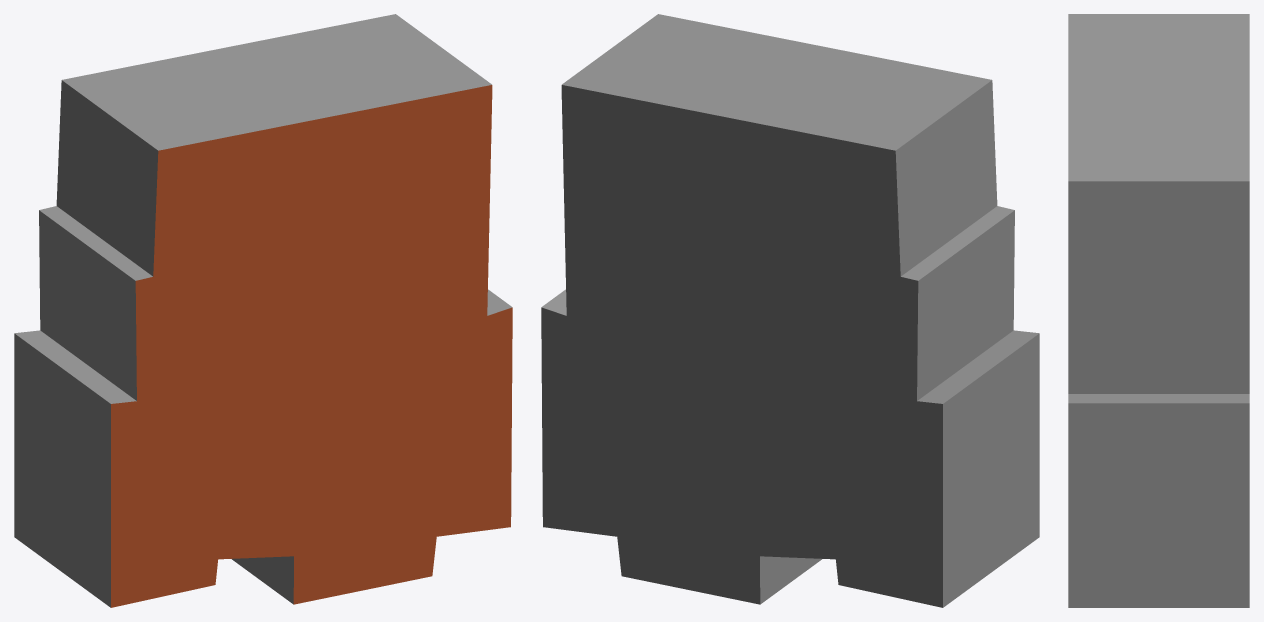
The model's file is construction_5300_assumed_A_Casa_h6m.obj.
3 renders of one model, left to right at view 1: azimuth 30°, elevation 25°; view 2: azimuth 150°, elevation 25°; view 3: azimuth 270°, elevation 25°, orthographic. The views are drawn at different scales.
Visible parts, largest first — view 1: construction_5300_assumed_A_Casa; view 2: construction_5300_assumed_A_Casa; view 3: construction_5300_assumed_A_Casa.
Boxes of the visible parts, x1,y1,x2,y2 form: construction_5300_assumed_A_Casa: (14,14,512,607); construction_5300_assumed_A_Casa: (541,14,1039,607); construction_5300_assumed_A_Casa: (1068,14,1249,607).
Size of the model in its own units: 14.39 by 16.85 by 6.
